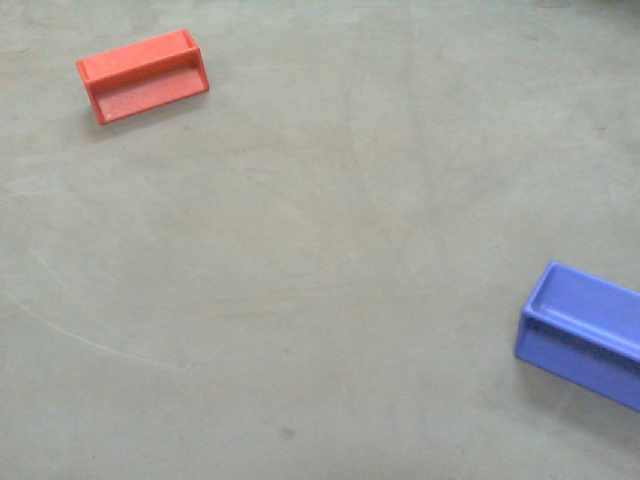BlueSample: (508, 252, 640, 421)
RedSample: (73, 25, 212, 126)
